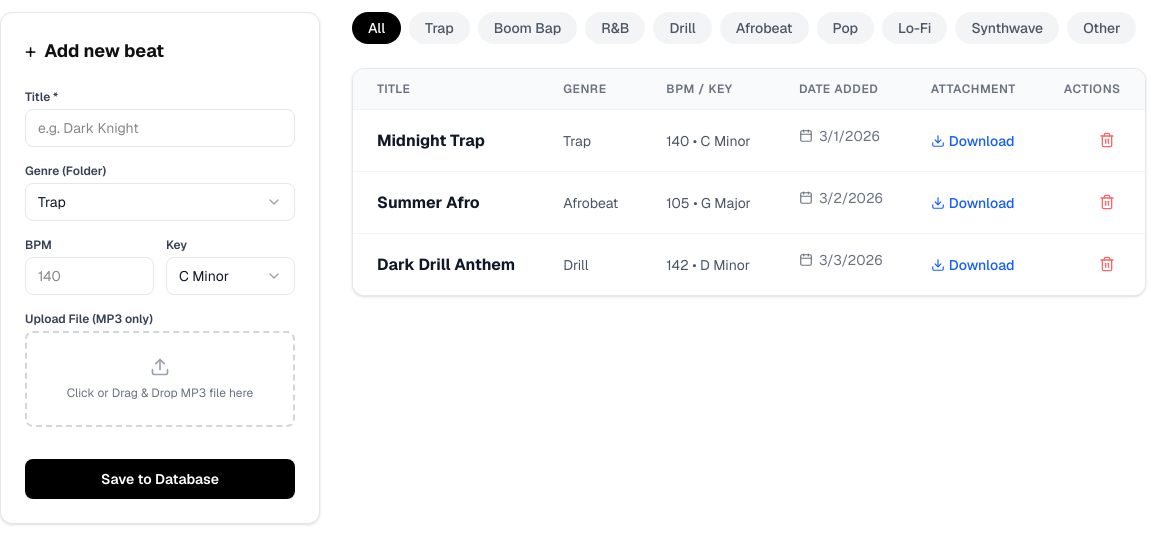
Test: BityPage (/bity) › allows picking a different genre in upload form
The image size is (1163, 542).
CustomSelect for Genre initially shows 'Trap'
Click the text "Trap" at (52, 202), box [38,192,66,212]
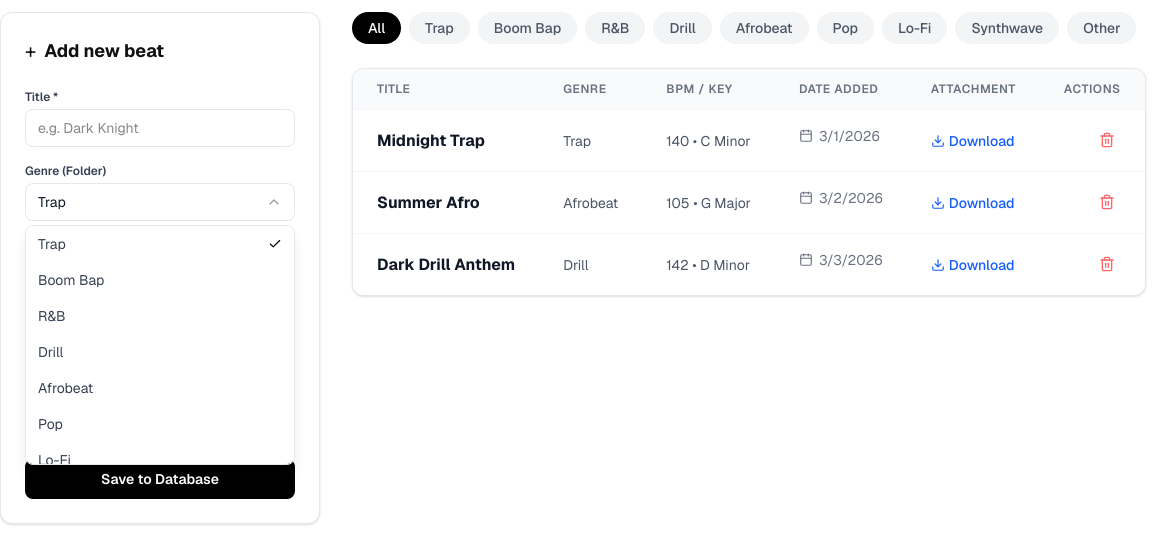
Click the text "R&B" at (52, 316), box [38,307,66,325]
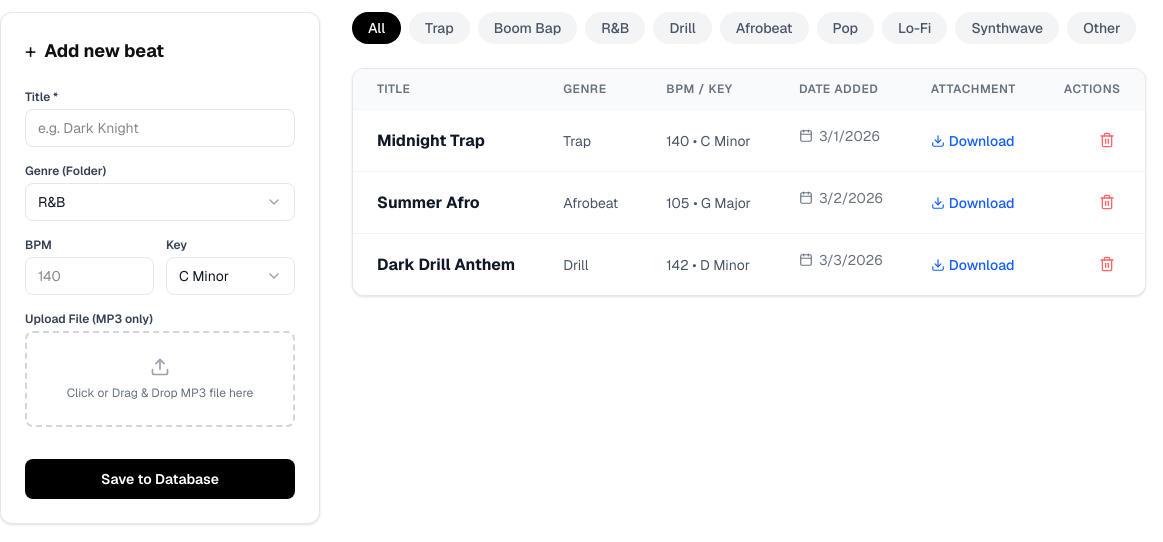
Expected: the text "R&B" is shown, [38,192,66,212]
